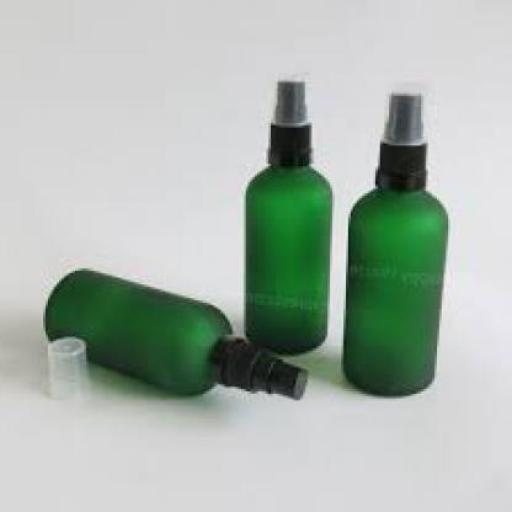glass: (47, 268, 237, 394), (344, 184, 450, 398), (248, 164, 334, 353)
plastic: (376, 82, 430, 186), (226, 339, 312, 396), (268, 70, 316, 164), (50, 332, 92, 396)
